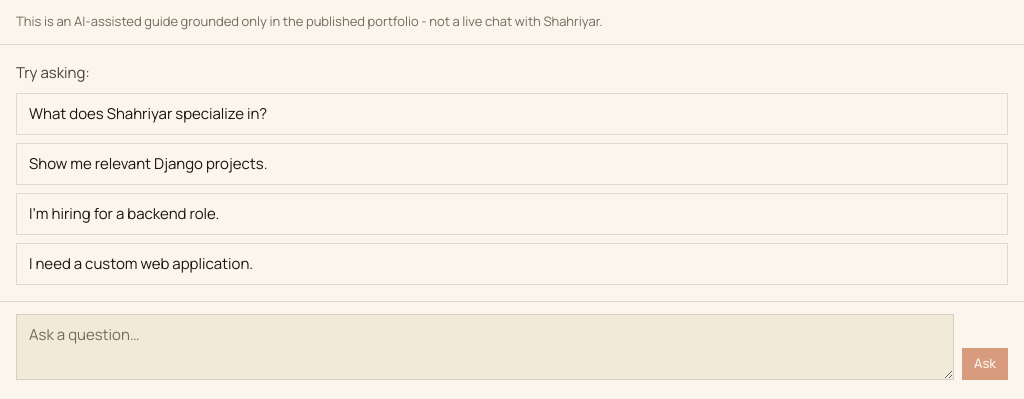
Test case: AssistantChat › renders the quota/rate-limit error state safely
The width and height of the screenshot is (1024, 399).
Type "What are his skills?" into the text box labelled "Ask a question…" at coordinates (485, 346), box [16,314,954,380]
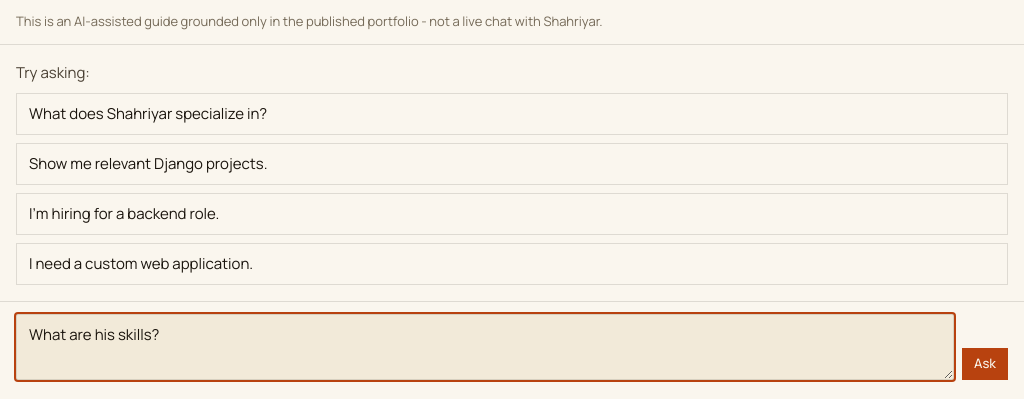
Click the button "Ask" at coordinates (985, 364), box [962,348,1008,380]
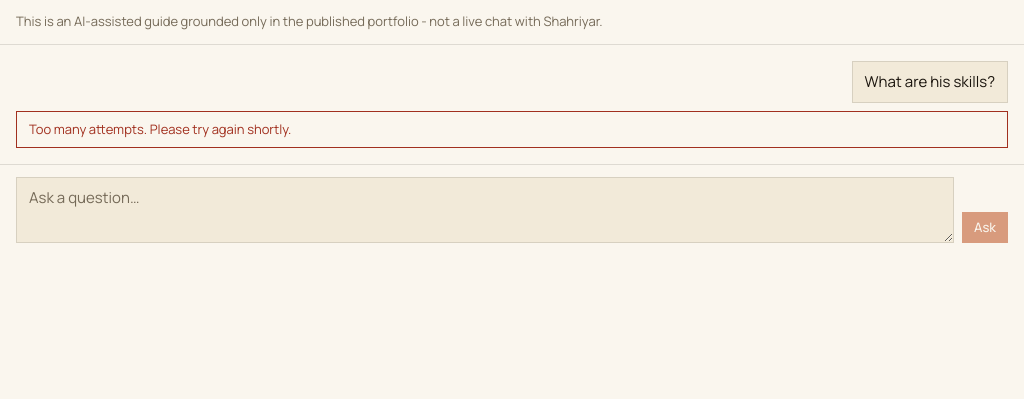
Check: the message shows "Too many attempts", box [29,120,291,138]
